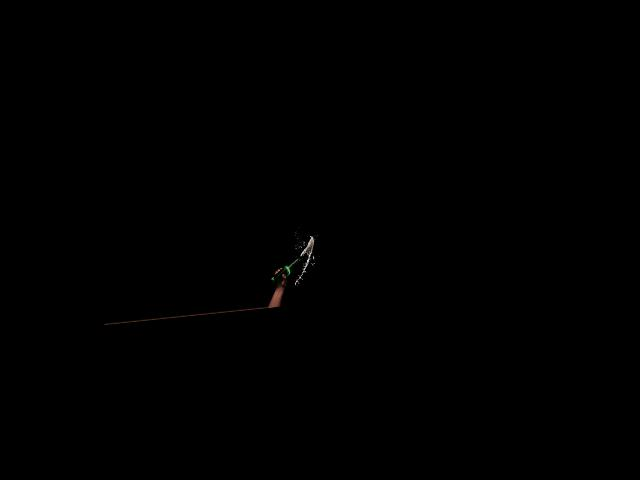beer: (268, 257, 302, 285)
